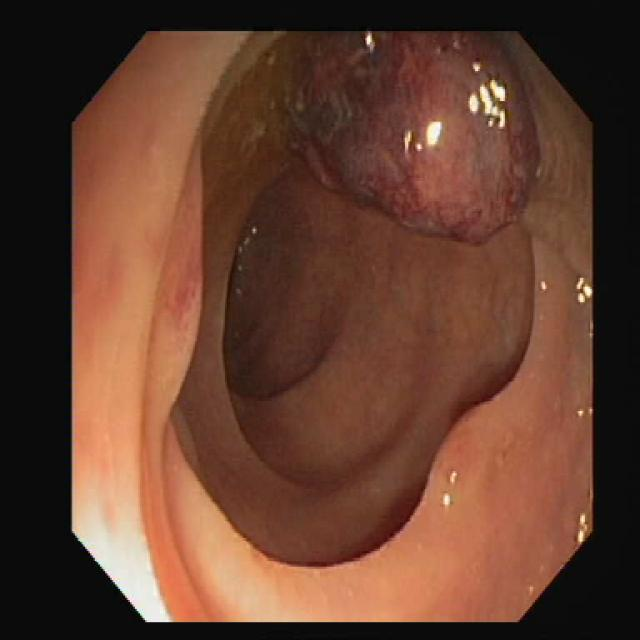tumor: (287, 33, 527, 231), (408, 396, 495, 522), (172, 147, 200, 393)
